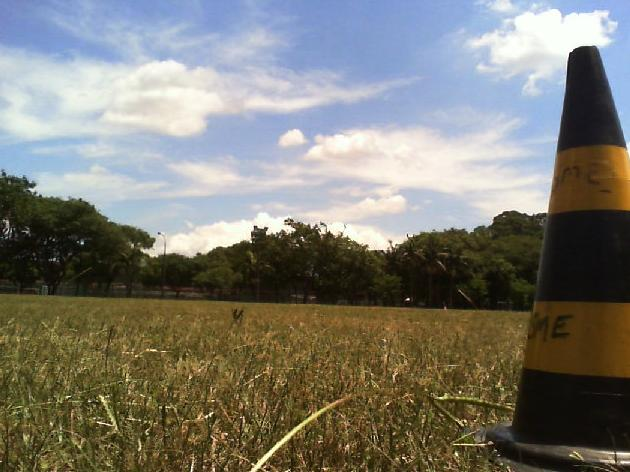0 cone: (477, 45, 630, 472)
